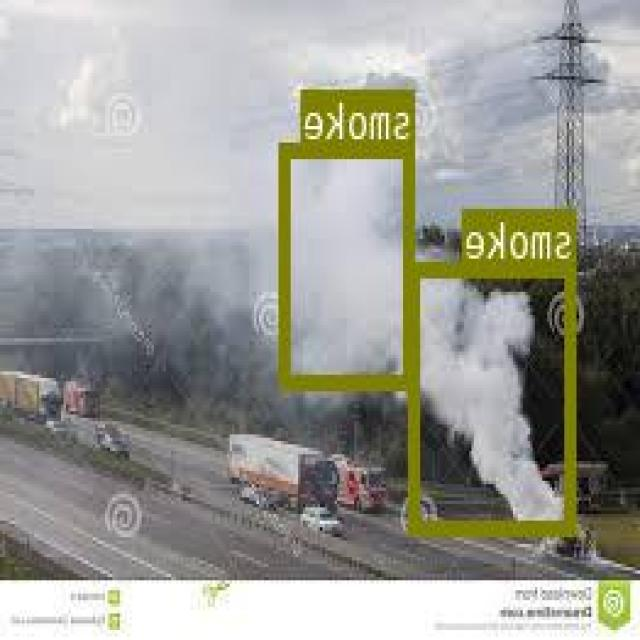smoke: (412, 259, 579, 534), (282, 140, 415, 387)
